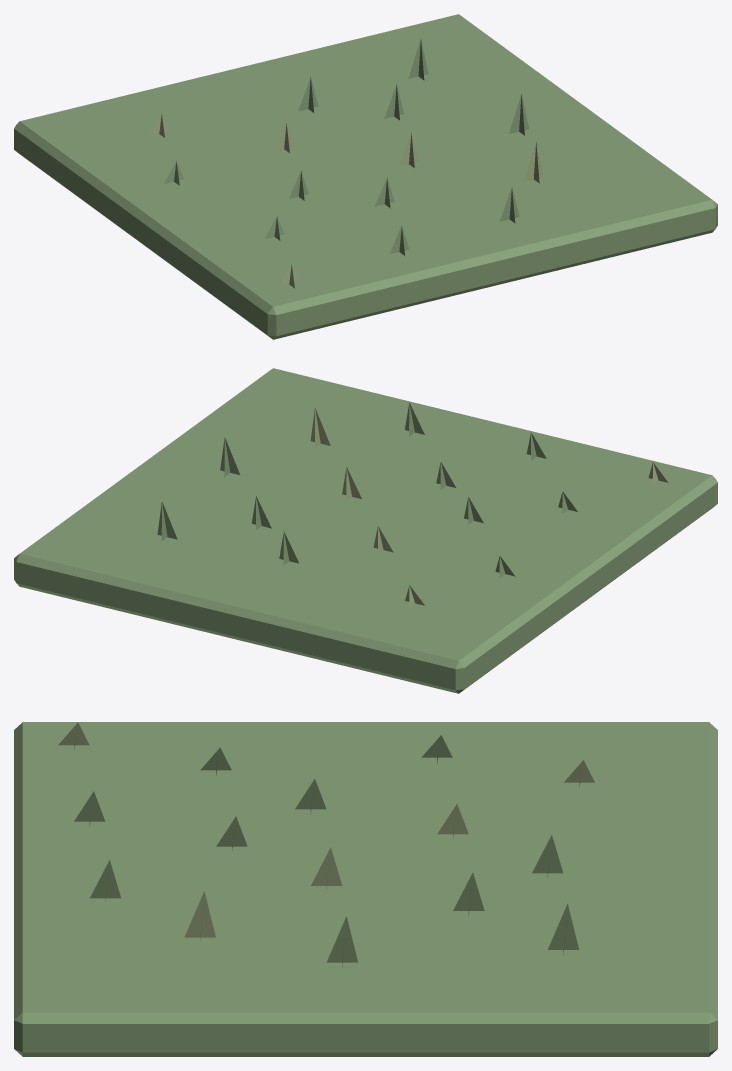
File: grass_verge.glb
3 views of the same model, one above another, from view 1: azimuth 30°, elevation 25°; view 2: azimuth 150°, elevation 25°; view 3: azimuth 270°, elevation 25° (orthographic). The views are drawn at different scales.
Parts seen in each view (by area): view 1: grass_verge; view 2: grass_verge; view 3: grass_verge.
Boxes of the visible parts, bbox=[...] form: grass_verge: bbox=[14, 14, 717, 339]; grass_verge: bbox=[14, 368, 717, 693]; grass_verge: bbox=[14, 722, 717, 1056].
Bounding box in the file's own units: 2 × 0.295 × 2.
